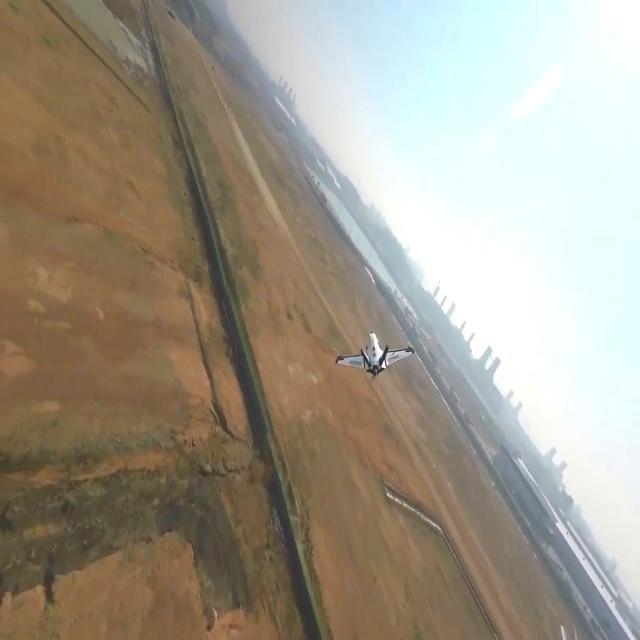iha: (365, 352, 384, 356)
